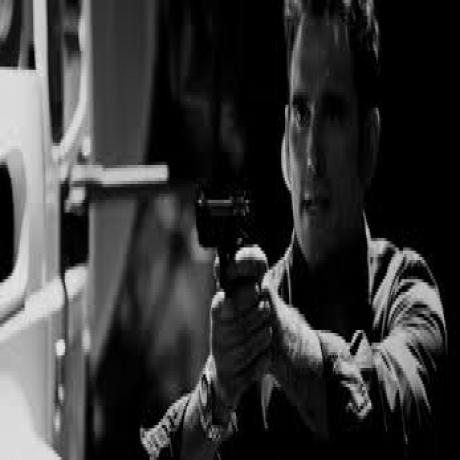Guns: (192, 181, 264, 294)
